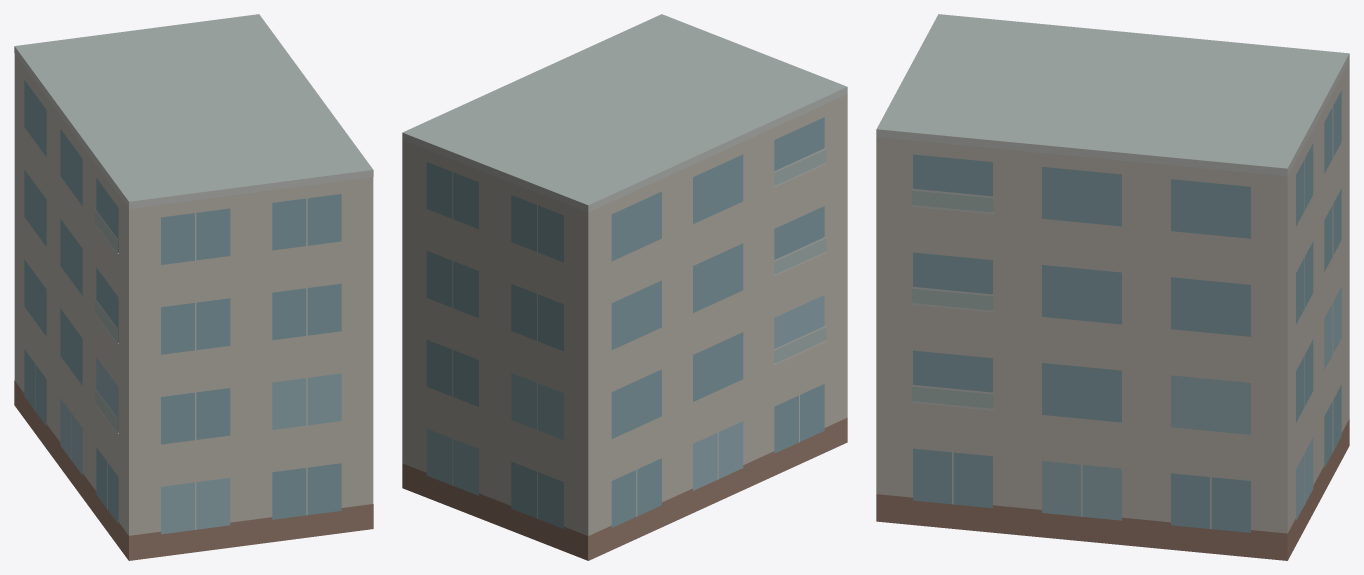
The model's file is residential-a7a4f050-a261-46fe-97e5-b2b6a8a927f4.glb.
3 views of the same model, side by side, from view 1: azimuth 30°, elevation 25°; view 2: azimuth 150°, elevation 25°; view 3: azimuth 270°, elevation 25° (orthographic). The views are drawn at different scales.
Visible parts, largest first — view 1: residential-a7a4f050-a261-46fe-97e5-b2b6a8a927f4.tmp; view 2: residential-a7a4f050-a261-46fe-97e5-b2b6a8a927f4.tmp; view 3: residential-a7a4f050-a261-46fe-97e5-b2b6a8a927f4.tmp.
Part boxes in pixels (bbox=[...]): residential-a7a4f050-a261-46fe-97e5-b2b6a8a927f4.tmp: bbox=[14, 14, 373, 560]; residential-a7a4f050-a261-46fe-97e5-b2b6a8a927f4.tmp: bbox=[402, 14, 847, 560]; residential-a7a4f050-a261-46fe-97e5-b2b6a8a927f4.tmp: bbox=[876, 14, 1349, 560].
Bounding box in the file's own units: 10.32 × 12.2 × 13.35.
